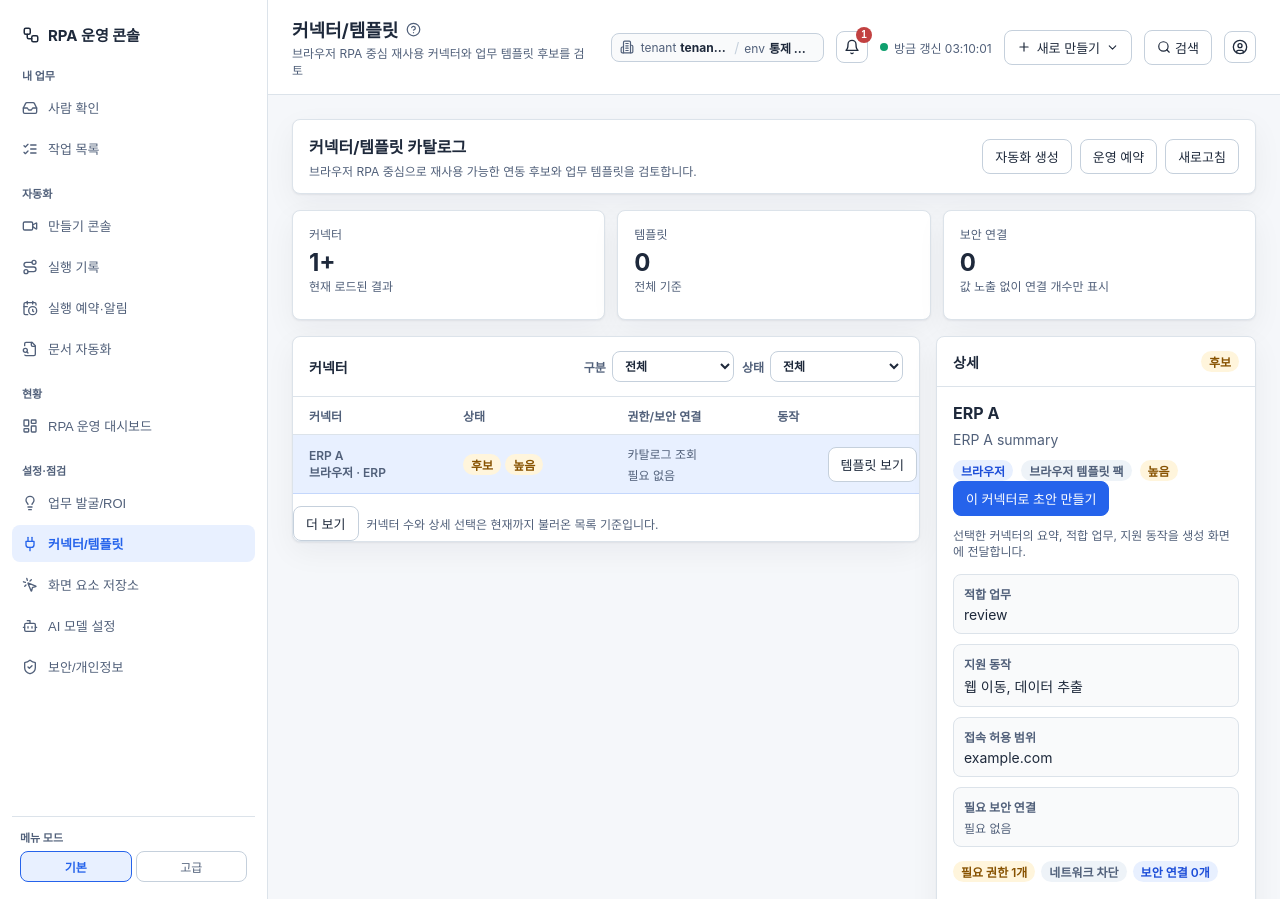
Scenario: connector catalog view › loads additional connector pages instead of treating the first page as the full catalog
Expected: the text "ERP A" is shown, [309,448,344,463]
Expected: the text "1+" is shown, [309,248,336,277]
Click the button "더 보기" at (326, 524), box [293,506,358,541]
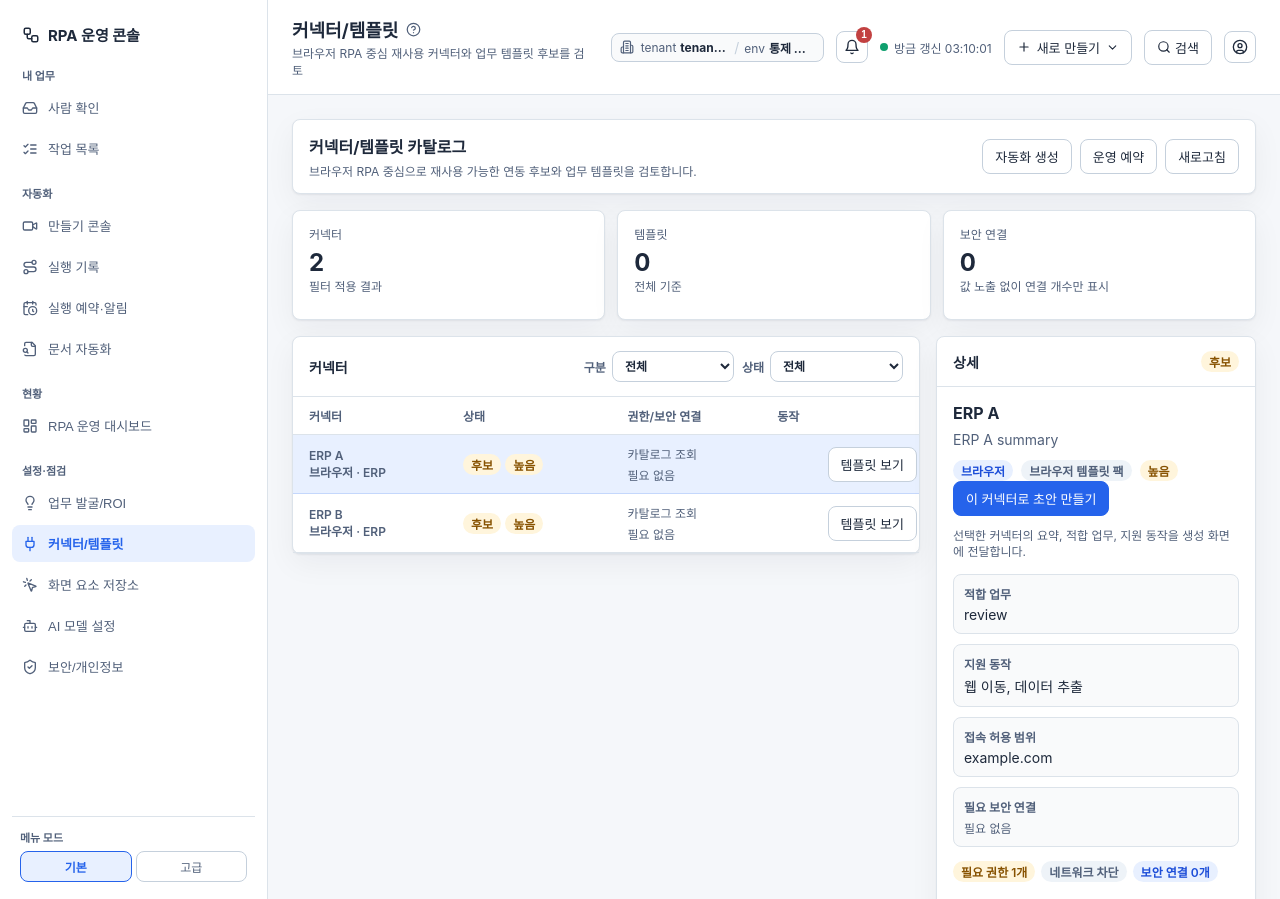
Expected: the text "ERP B" is shown, [309,507,343,522]
Expected: the text "2" is shown, [309,248,324,277]
